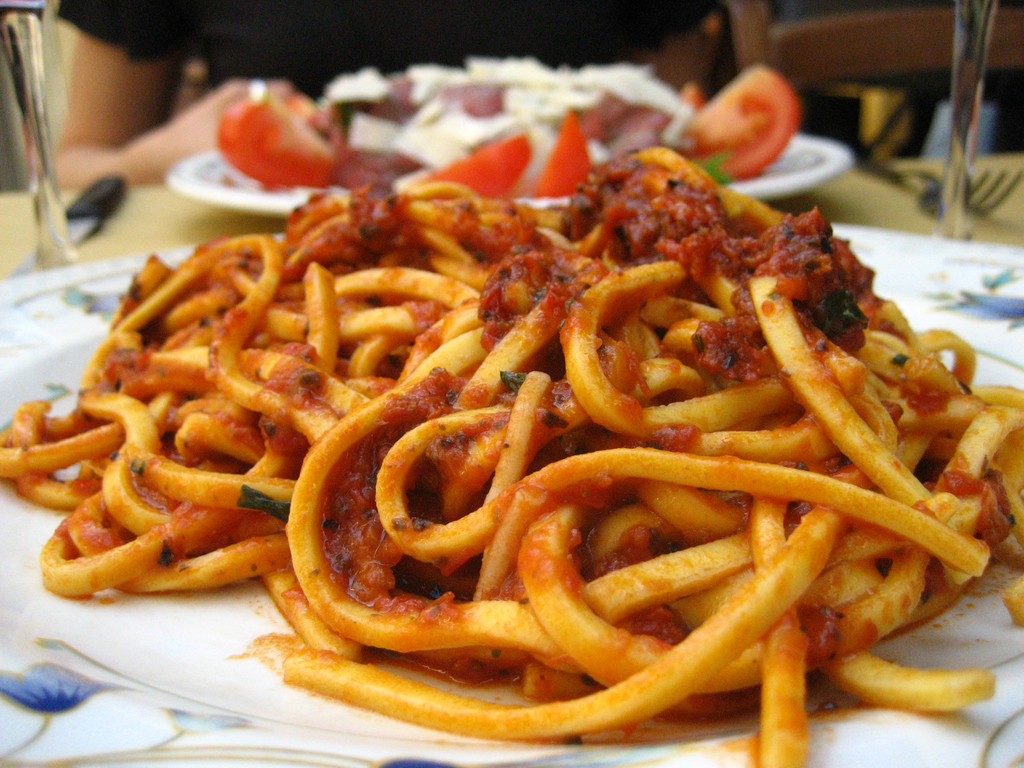Tomato: (187, 99, 339, 179)
